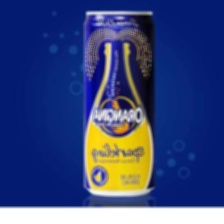can: (79, 7, 159, 198)
